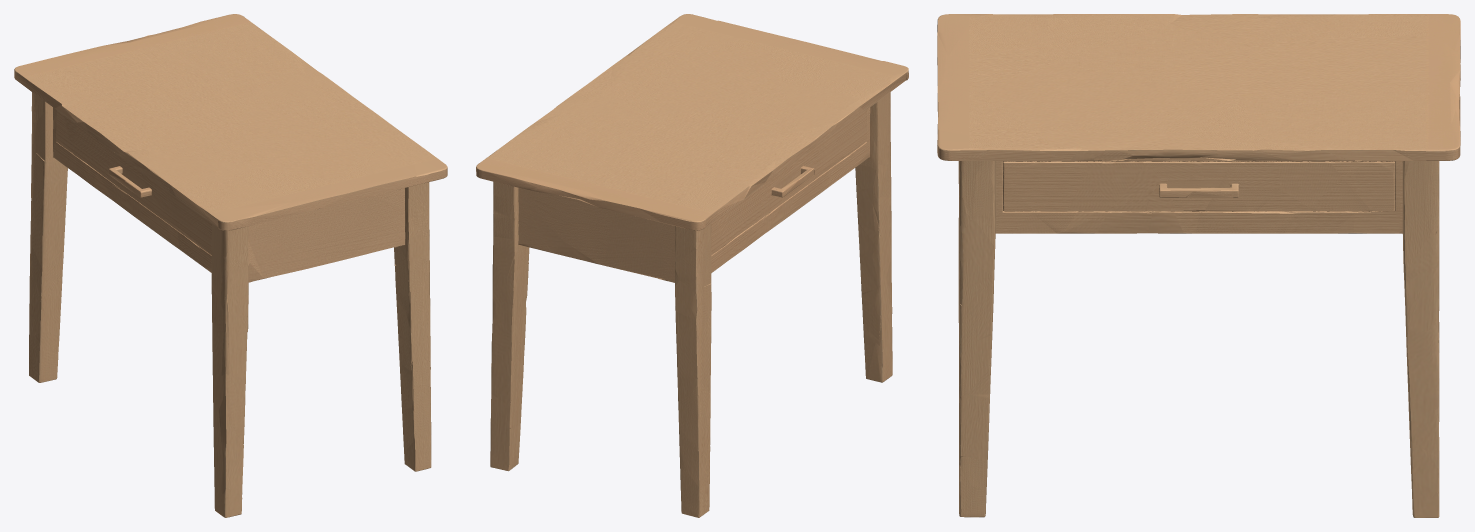
3 views of the same model, side by side, from view 1: azimuth 30°, elevation 25°; view 2: azimuth 150°, elevation 25°; view 3: azimuth 270°, elevation 25° (orthographic). The views are drawn at different scales.
Size of the model in its own units: 1.18 by 1.5 by 1.9.
1 material, 1 textured.
